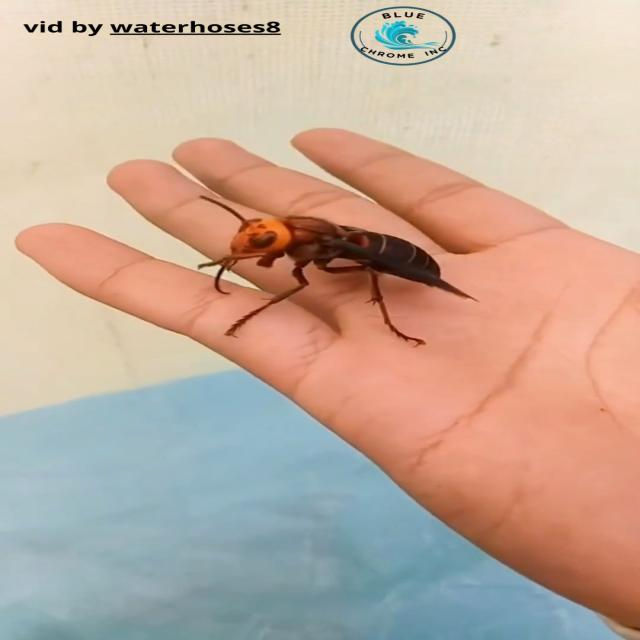Hornets: (191, 193, 482, 347)
